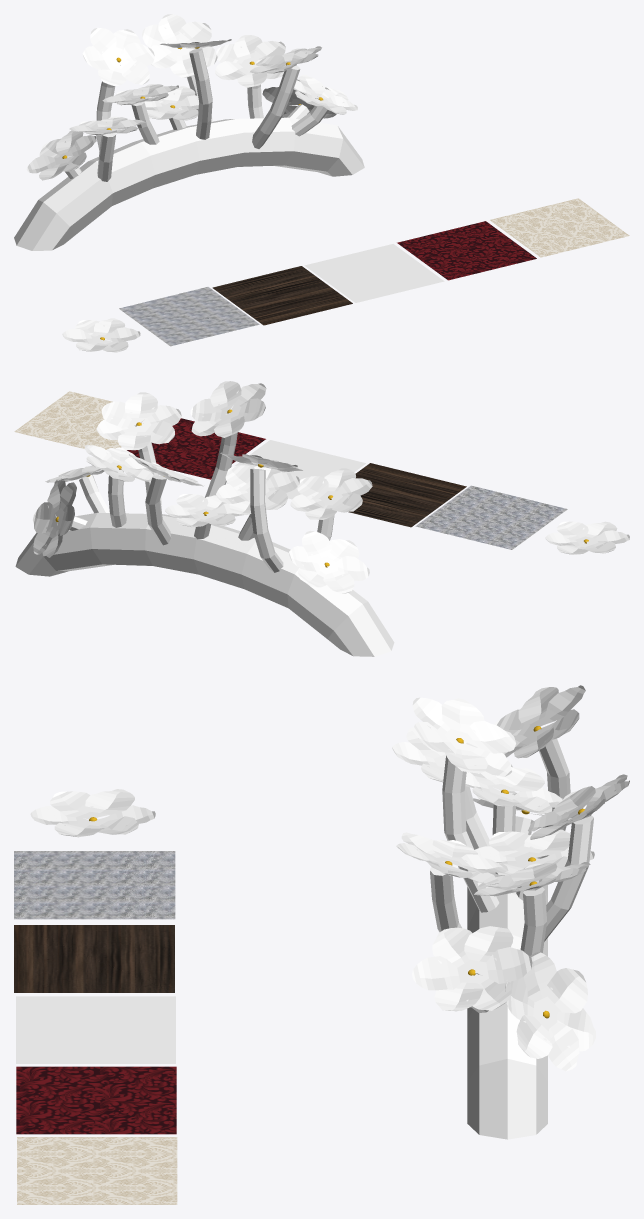
The model's file is caule.glb.
The picture shows the model from 3 angles, top to bottom: view 1: azimuth 30°, elevation 25°; view 2: azimuth 150°, elevation 25°; view 3: azimuth 270°, elevation 25°; orthographic projection. The views are drawn at different scales.
Visible parts, largest first — view 1: Caule, Chão Madeira, Carpete, Chão Terraço, Parede 1, Parede 2, Flor Modelo.001, Flor Modelo.003, Flor Modelo.007, Flor Modelo.010, Flor Modelo, Flor Modelo.006 (+5 smaller); view 2: Caule, Carpete, Chão Madeira, Parede 2, Flor Modelo.004, Flor Modelo.010, Parede 1, Flor Modelo.002, Flor Modelo.005, Flor Modelo.009, Flor Modelo.011, Chão Terraço (+6 smaller); view 3: Caule, Carpete, Parede 1, Chão Madeira, Parede 2, Chão Terraço, Flor Modelo.008, Flor Modelo.011, Flor Modelo.002, Flor Modelo, Flor Modelo.001, Flor Modelo.009 (+5 smaller).
Part boxes in pixels (x1,y1,x2,y2): Caule: (14, 48, 364, 250); Chão Madeira: (212, 266, 352, 325); Carpete: (119, 287, 259, 346); Chão Terraço: (304, 244, 444, 302); Parede 1: (397, 221, 536, 280); Parede 2: (490, 198, 629, 257); Flor Modelo.001: (82, 28, 154, 85); Flor Modelo.003: (142, 14, 217, 77); Flor Modelo.007: (215, 35, 285, 87); Flor Modelo.010: (26, 130, 96, 180); Flor Modelo: (62, 318, 140, 352); Flor Modelo.006: (144, 86, 198, 120); Caule: (15, 414, 394, 656); Carpete: (415, 485, 567, 549); Chão Madeira: (348, 463, 466, 527); Parede 2: (14, 391, 144, 449); Flor Modelo.004: (96, 392, 181, 450); Flor Modelo.010: (289, 530, 369, 593); Parede 1: (127, 418, 265, 479); Flor Modelo.002: (190, 381, 266, 437); Flor Modelo.005: (290, 468, 372, 519); Flor Modelo.009: (216, 460, 299, 514); Flor Modelo.011: (33, 478, 76, 557); Chão Terraço: (226, 440, 365, 499); Caule: (430, 738, 593, 1139); Carpete: (14, 851, 175, 919); Parede 1: (16, 1066, 176, 1134); Chão Madeira: (14, 925, 174, 992); Parede 2: (17, 1137, 177, 1204); Chão Terraço: (16, 996, 175, 1063); Flor Modelo.008: (412, 924, 532, 1011); Flor Modelo.011: (505, 952, 595, 1071); Flor Modelo.002: (412, 697, 515, 776); Flor Modelo: (30, 789, 155, 837); Flor Modelo.001: (494, 685, 585, 758); Flor Modelo.009: (465, 767, 563, 814).
Size of the model in its own units: 23.86 by 8.13 by 15.29.
8 materials, 4 textured.
